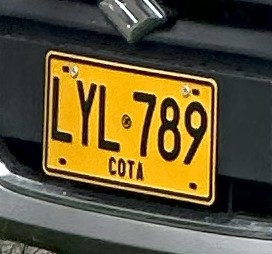number plate: (42, 50, 217, 204)
